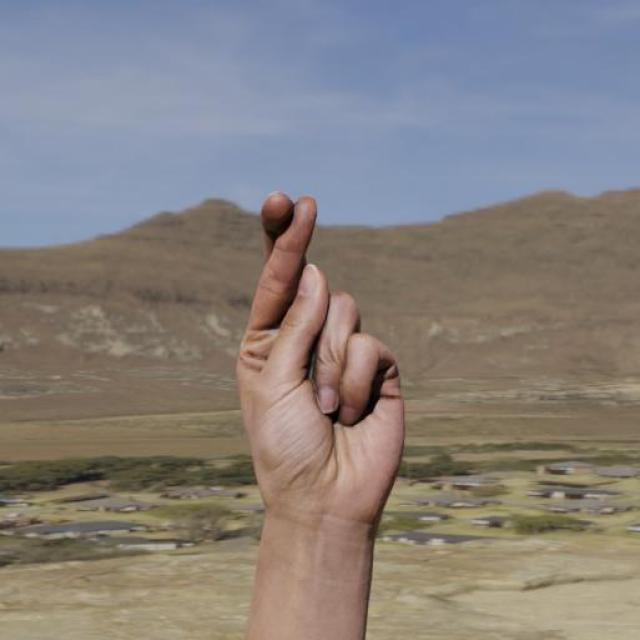R: (231, 184, 411, 537)
